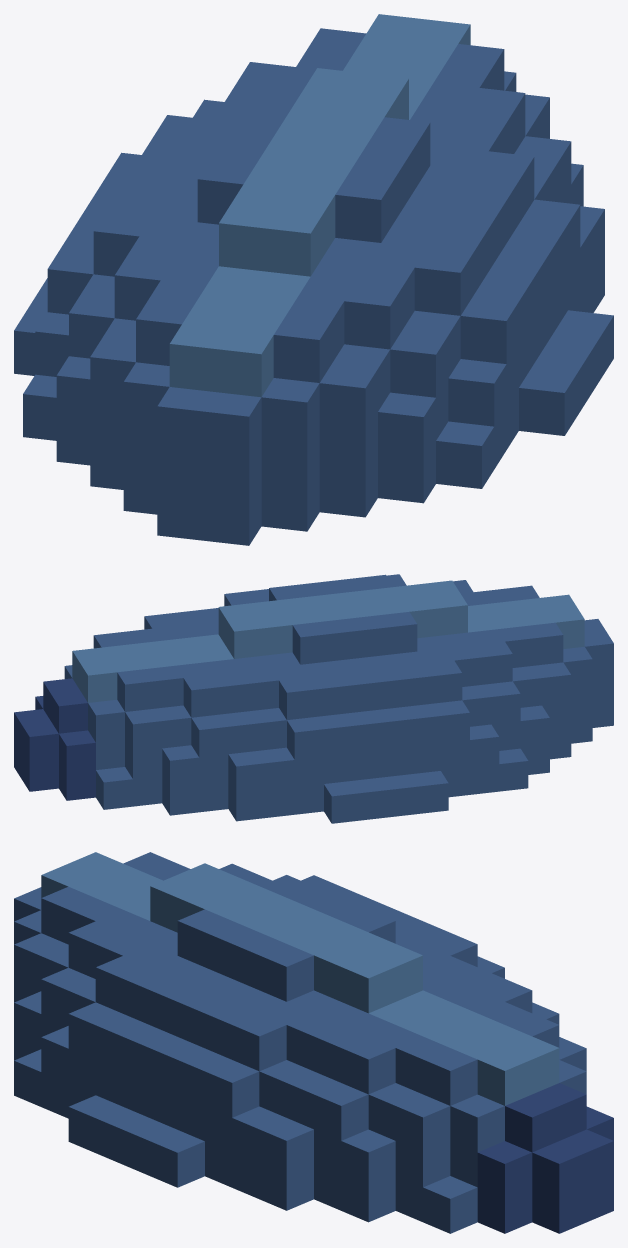
The model's file is item_SEED_STORMVINE.glb.
The picture shows the model from 3 angles, top to bottom: view 1: azimuth 30°, elevation 25°; view 2: azimuth 150°, elevation 25°; view 3: azimuth 270°, elevation 25°; orthographic projection. The views are drawn at different scales.
Parts seen in each view (by area): view 1: item_SEED_STORMVINE; view 2: item_SEED_STORMVINE; view 3: item_SEED_STORMVINE.
Part boxes in pixels (<box>): item_SEED_STORMVINE: <box>14,14,613,545</box>; item_SEED_STORMVINE: <box>14,574,613,823</box>; item_SEED_STORMVINE: <box>14,852,613,1233</box>.
Size of the model in its own units: 0.1768 by 0.0568 by 0.1768.
1 material, 1 textured.
